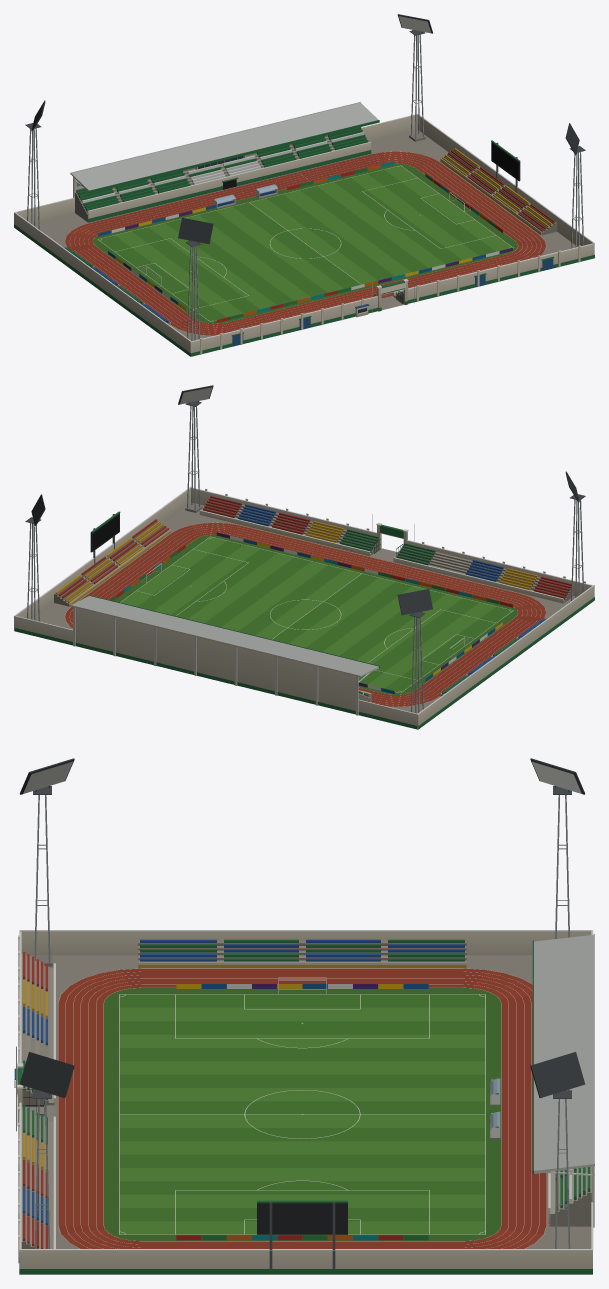
Rendered from ns_stadium_lod1.glb.
3 views of the same model, one above another, from view 1: azimuth 30°, elevation 25°; view 2: azimuth 150°, elevation 25°; view 3: azimuth 270°, elevation 25° (orthographic). The views are drawn at different scales.
Visible parts, largest first — view 1: ns_stadium_lod1; view 2: ns_stadium_lod1; view 3: ns_stadium_lod1.
Boxes of the visible parts, x1=… form: ns_stadium_lod1: x1=14, y1=14, x2=594, y2=356; ns_stadium_lod1: x1=14, y1=385, x2=594, y2=729; ns_stadium_lod1: x1=14, y1=758, x2=594, y2=1274.
Size of the model in its own units: 120 by 35.44 by 92.03.
